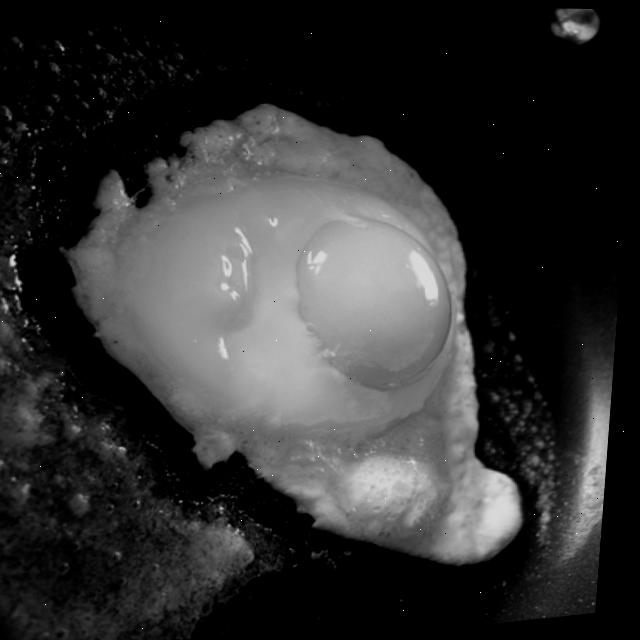鸡蛋料理: (44, 80, 568, 607)
